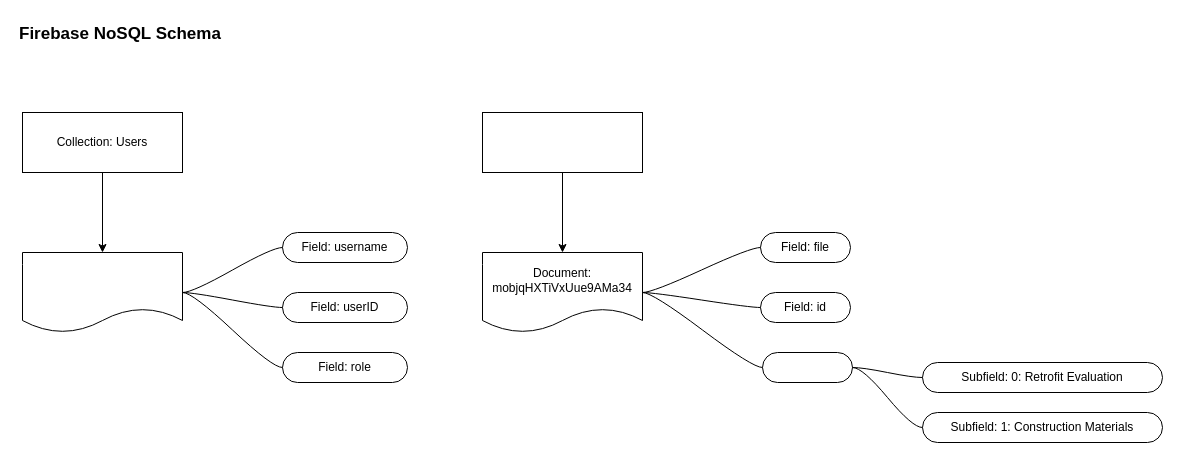
Some shapes in this 1180 by 460 pixel diagram are drawn without their labels. The box of each missing label's shape, as (x1, y1, x2, y2) in pixels:
Collection: Connectors: (482, 112, 642, 172)
Document: ivan@ambientsystems.ai: (22, 252, 182, 332)
Field: models: (762, 352, 852, 382)
